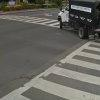Crosswalk: (26, 36, 99, 100)
